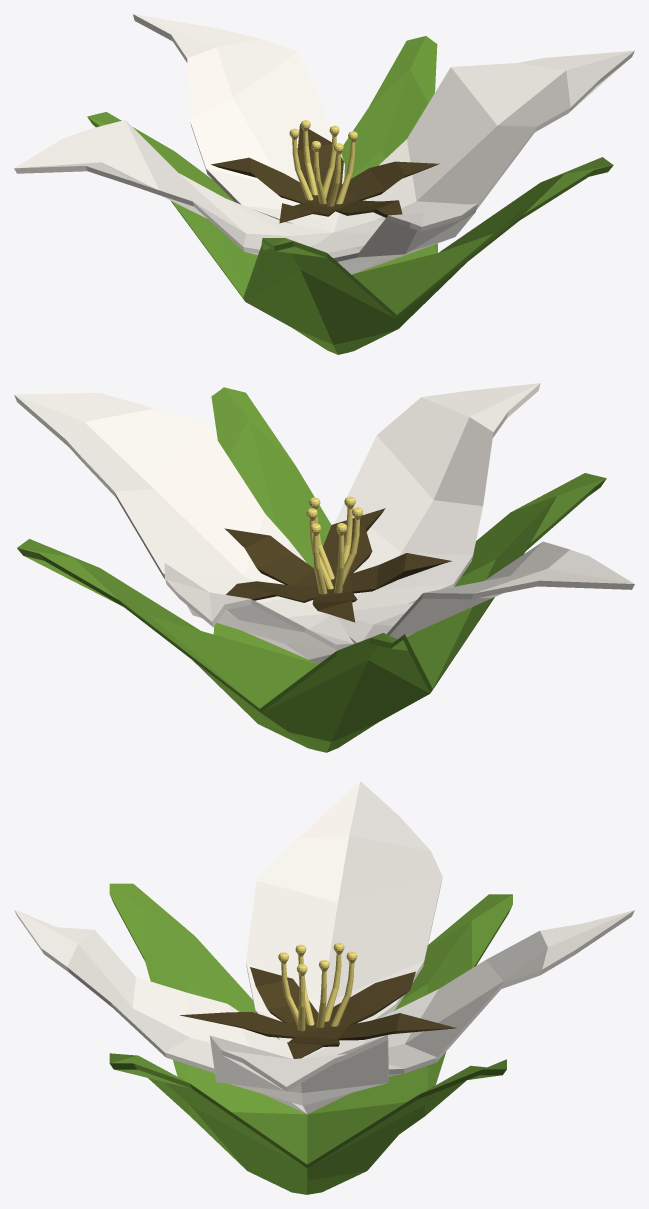
File: EagleCrop.fbx
The picture shows the model from 3 angles, top to bottom: view 1: azimuth 30°, elevation 25°; view 2: azimuth 150°, elevation 25°; view 3: azimuth 270°, elevation 25°; orthographic projection. The views are drawn at different scales.
Visible parts, largest first — view 1: Cylinder; view 2: Cylinder; view 3: Cylinder.
Part boxes in pixels (x1=…): Cylinder: x1=14, y1=14, x2=634, y2=354; Cylinder: x1=14, y1=383, x2=634, y2=752; Cylinder: x1=14, y1=781, x2=634, y2=1194.
Size of the model in its own units: 110 by 42.06 by 94.49.
